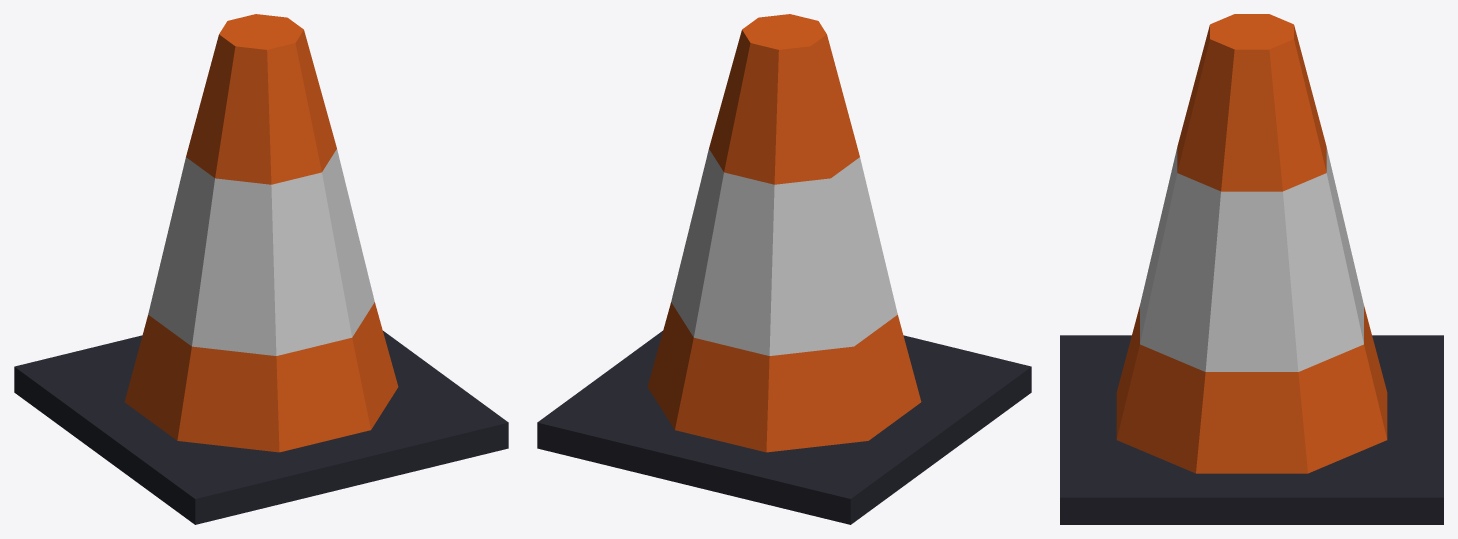
File: traffic_cone.glb
The picture shows the model from 3 angles, left to right: view 1: azimuth 30°, elevation 25°; view 2: azimuth 150°, elevation 25°; view 3: azimuth 270°, elevation 25°; orthographic projection. The views are drawn at different scales.
Visible parts, largest first — view 1: traffic_cone; view 2: traffic_cone; view 3: traffic_cone.
Boxes of the visible parts, bbox=[...] form: traffic_cone: bbox=[14, 14, 508, 524]; traffic_cone: bbox=[537, 14, 1031, 524]; traffic_cone: bbox=[1060, 14, 1443, 524].
Bounding box in the file's own units: 0.38 × 0.45 × 0.38.
